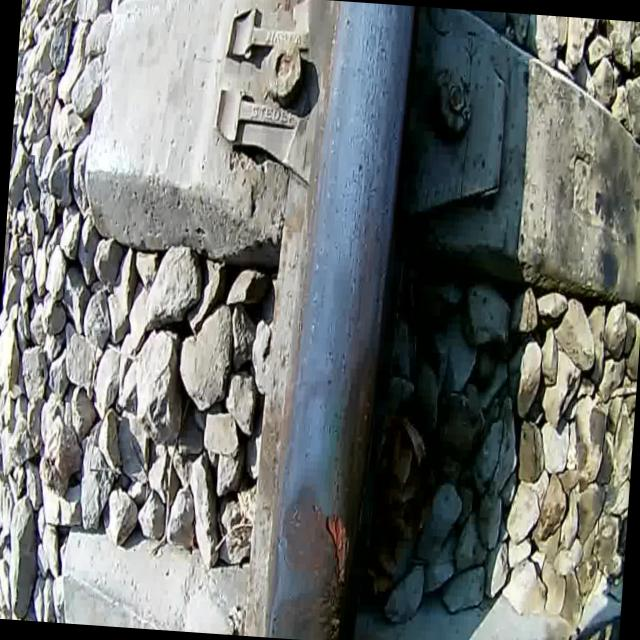Spallings: (316, 502, 355, 588)
Squats: (265, 471, 358, 640)
